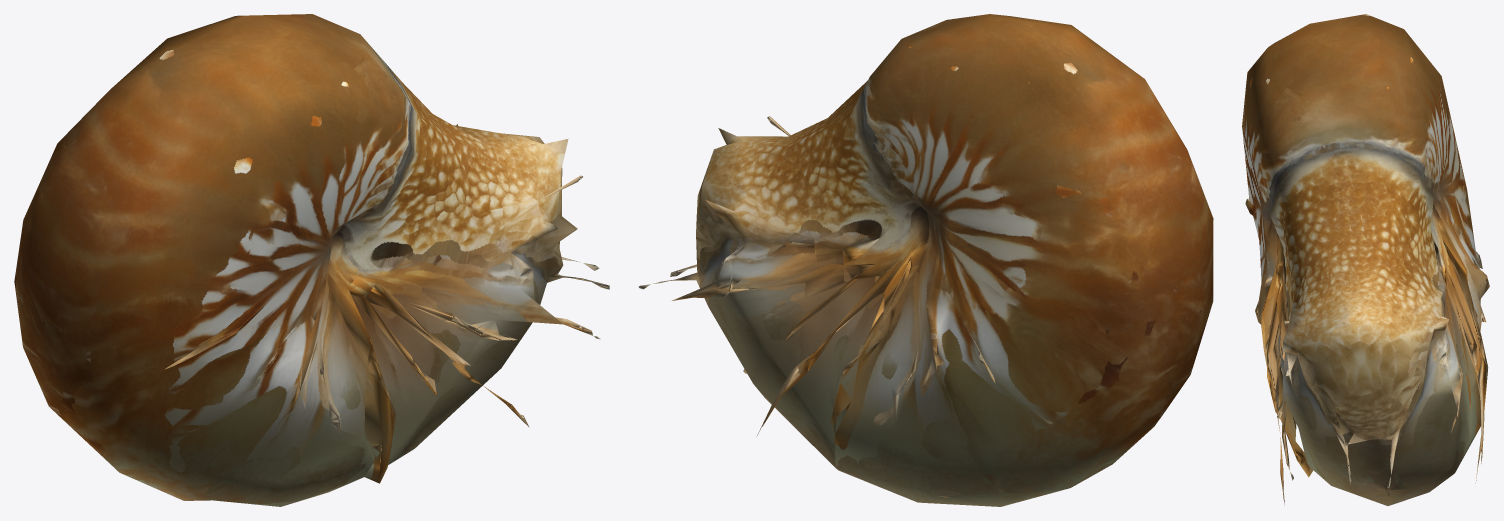
The model's file is nautilus_single_1500.glb.
3 renders of one model, left to right at view 1: azimuth 30°, elevation 25°; view 2: azimuth 150°, elevation 25°; view 3: azimuth 270°, elevation 25°, orthographic. The views are drawn at different scales.
Bounding box in the file's own units: 0.773 × 0.6267 × 0.3339.
1 material, 1 textured.
